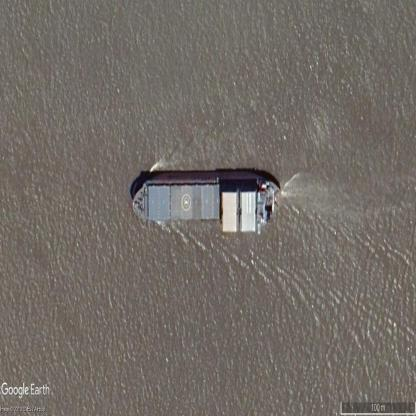ship: (133, 174, 283, 230)
